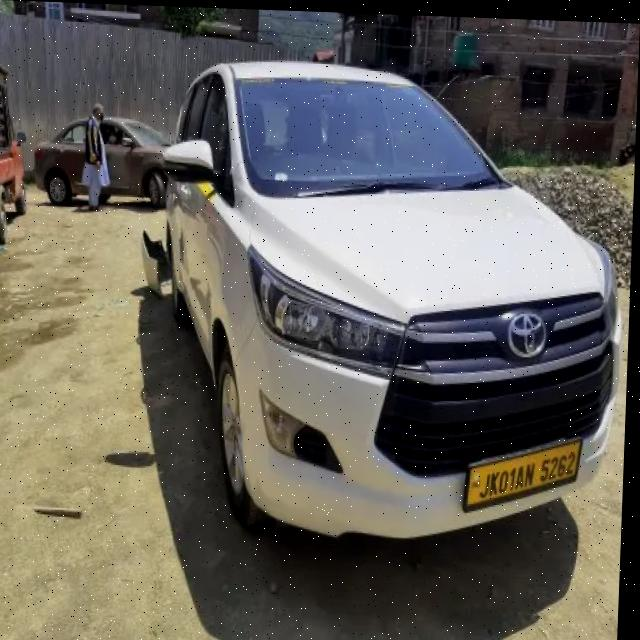plate: (464, 418, 594, 516)
